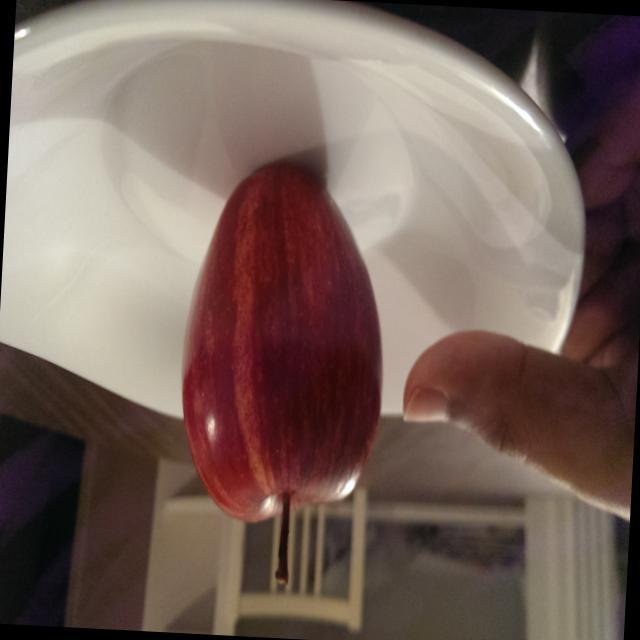Apple: (165, 146, 398, 594)
Finger: (396, 321, 541, 476)
